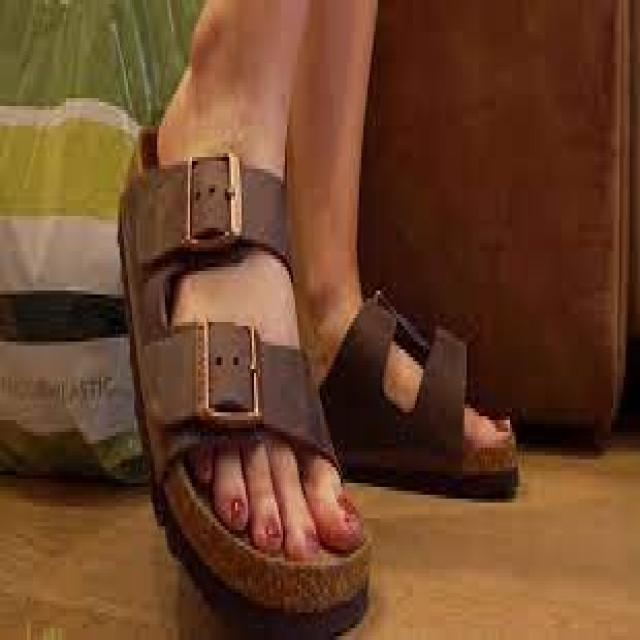No_Shoe: (118, 118, 364, 582)
